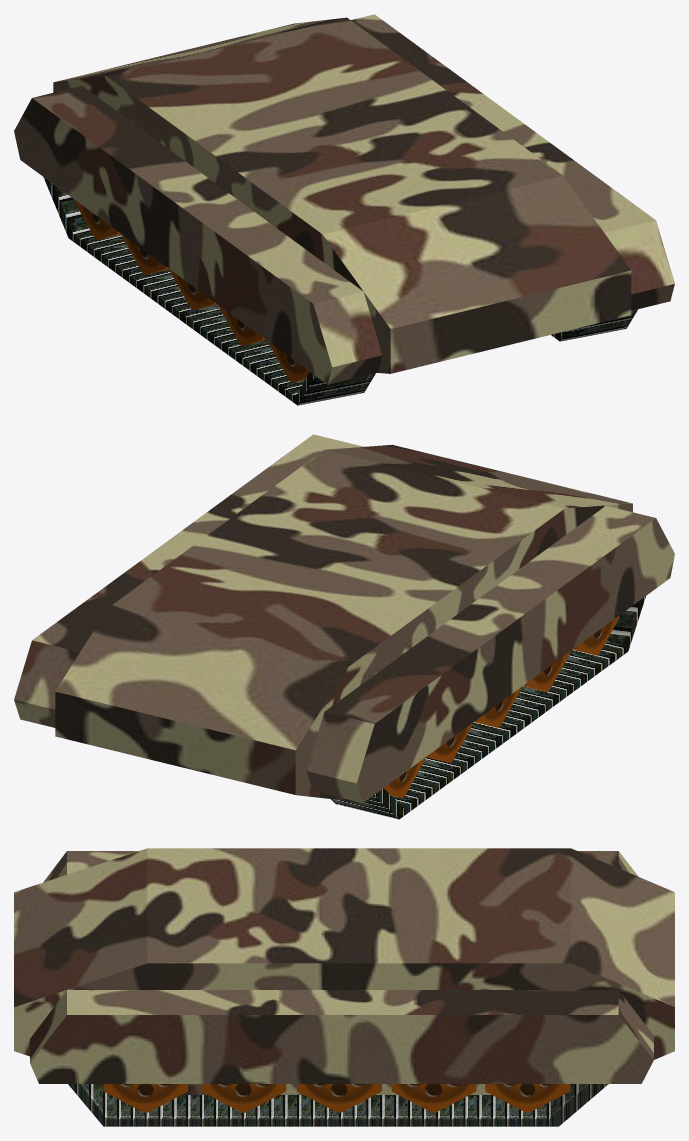
File: tank_body.fbx
3 views of the same model, one above another, from view 1: azimuth 30°, elevation 25°; view 2: azimuth 150°, elevation 25°; view 3: azimuth 270°, elevation 25° (orthographic). The views are drawn at different scales.
Visible parts, largest first — view 1: polySurface83; view 2: polySurface83; view 3: polySurface83.
Boxes of the visible parts, left/top/right/bottom form: polySurface83: left=14, top=14, right=674, bottom=405; polySurface83: left=14, top=434, right=674, bottom=819; polySurface83: left=14, top=848, right=674, bottom=1126.
Size of the model in its own units: 2.67 by 1.09 by 4.55.
